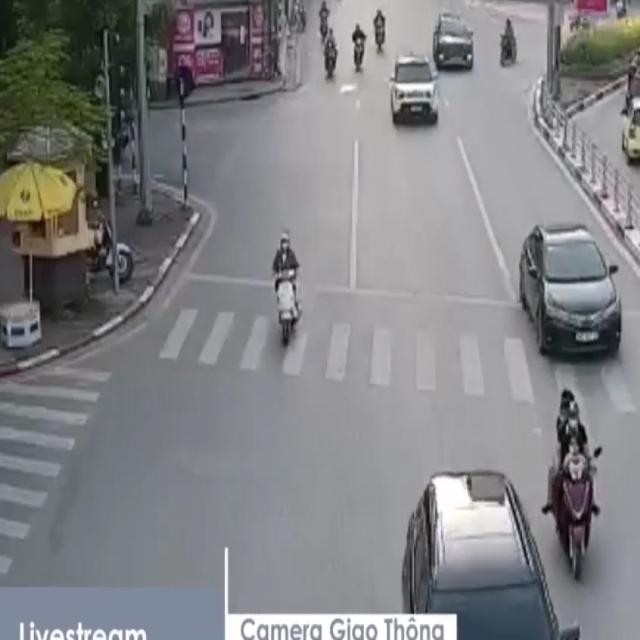car: (403, 470, 559, 638), (519, 224, 620, 361), (388, 57, 439, 124), (434, 15, 474, 74)
motorbike: (548, 385, 602, 582), (272, 231, 303, 348), (496, 14, 519, 71)
